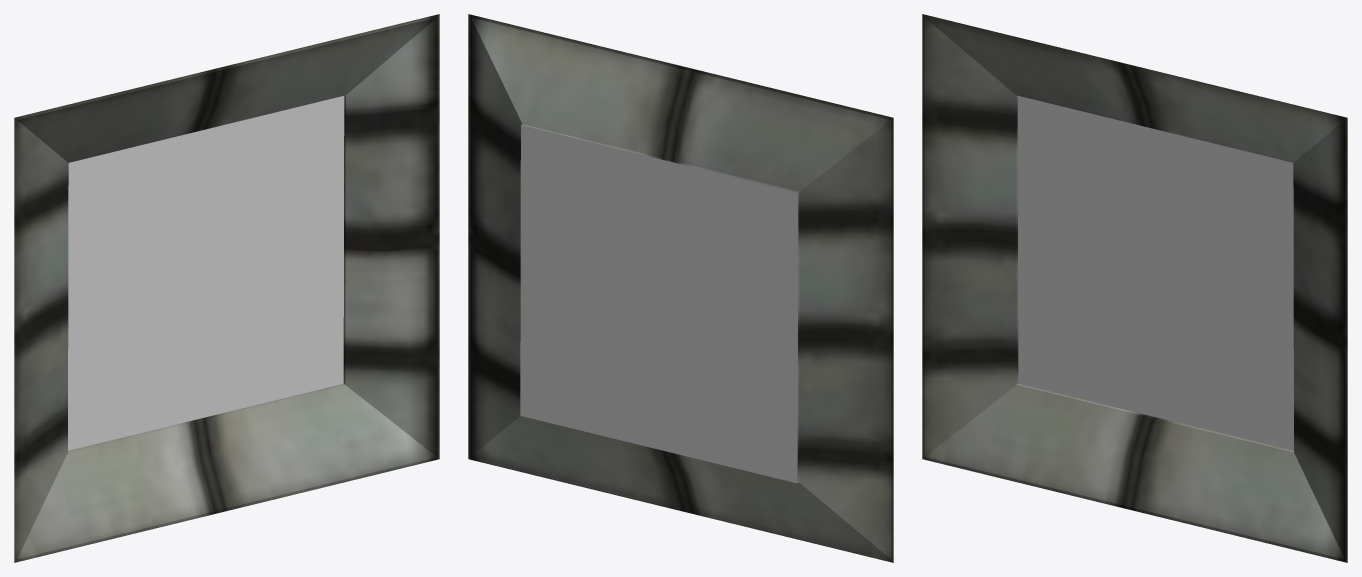
Rendered from light.fbx.
3 renders of one model, left to right at view 1: azimuth 30°, elevation 25°; view 2: azimuth 150°, elevation 25°; view 3: azimuth 330°, elevation 25°, orthographic.
Visible parts, largest first — view 1: WallLight; view 2: WallLight; view 3: WallLight.
Boxes of the visible parts, x1=… form: WallLight: x1=14, y1=14, x2=439, y2=562; WallLight: x1=468, y1=14, x2=893, y2=562; WallLight: x1=922, y1=14, x2=1347, y2=562.
Size of the model in its own units: 300 by 300 by 26.83.
2 materials, 1 textured.
